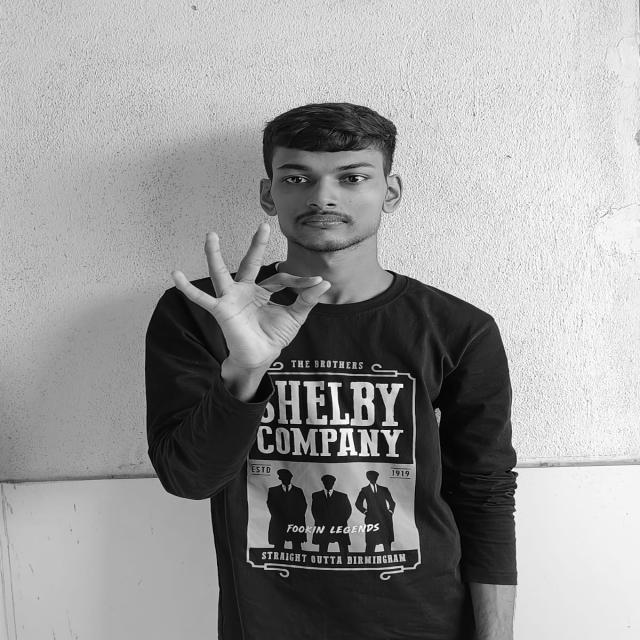Superb: (174, 223, 338, 359)
